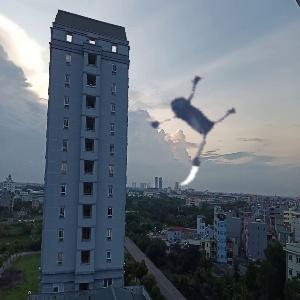drone: (118, 59, 249, 190)
